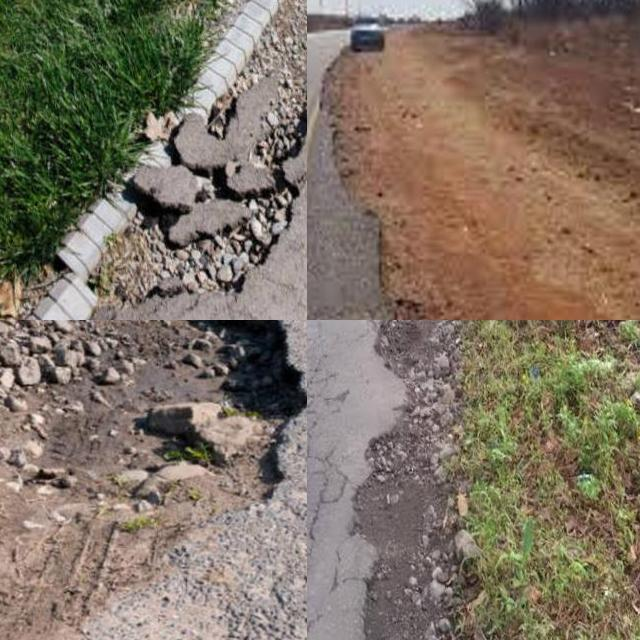Pinggir: (5, 0, 307, 318), (58, 320, 307, 573), (336, 320, 480, 640), (307, 59, 450, 320)
